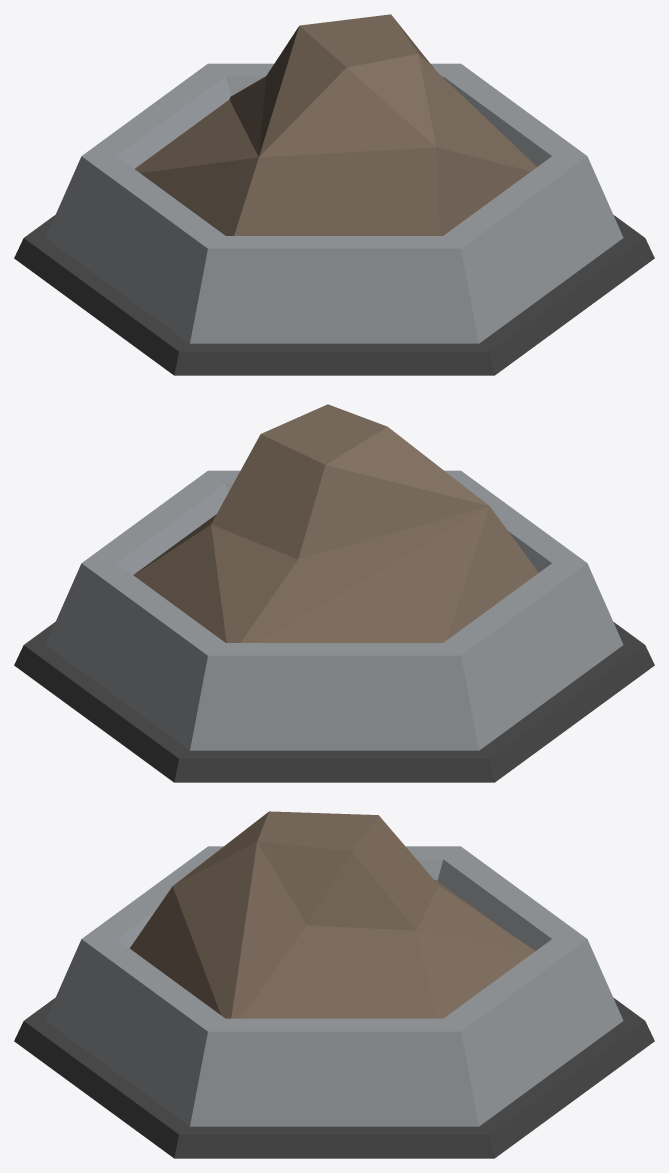
Rendered from SM_Prop_PetBowl_01.fbx.
3 views of the same model, one above another, from view 1: azimuth 30°, elevation 25°; view 2: azimuth 150°, elevation 25°; view 3: azimuth 270°, elevation 25° (orthographic).
Visible parts, largest first — view 1: SM_Prop_PetBowl_01, SM_Prop_PetBowl_01_Food; view 2: SM_Prop_PetBowl_01, SM_Prop_PetBowl_01_Food; view 3: SM_Prop_PetBowl_01, SM_Prop_PetBowl_01_Food.
Part boxes in pixels (x1,y1,x2,y2): SM_Prop_PetBowl_01: (14, 63, 654, 375); SM_Prop_PetBowl_01_Food: (135, 14, 536, 235); SM_Prop_PetBowl_01: (14, 470, 654, 782); SM_Prop_PetBowl_01_Food: (133, 404, 538, 642); SM_Prop_PetBowl_01: (14, 846, 654, 1158); SM_Prop_PetBowl_01_Food: (130, 811, 535, 1018).
Bounding box in the file's own units: 45.95 × 20.26 × 53.06.
